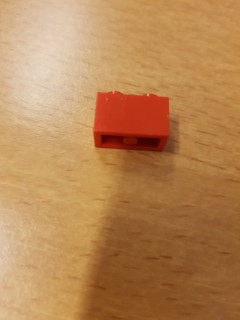1x2 red: (96, 90, 171, 151)
